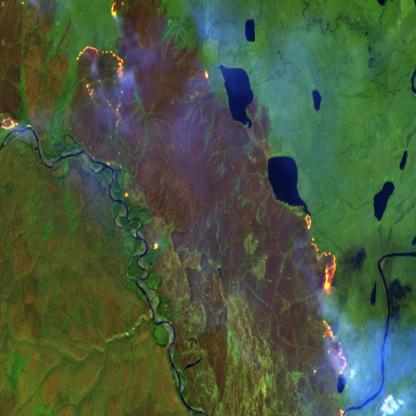fire: (297, 208, 351, 377), (74, 42, 127, 134), (0, 106, 33, 133), (99, 149, 124, 173), (162, 296, 179, 330), (107, 0, 129, 19), (149, 234, 163, 255), (122, 184, 133, 206), (205, 63, 213, 84)
